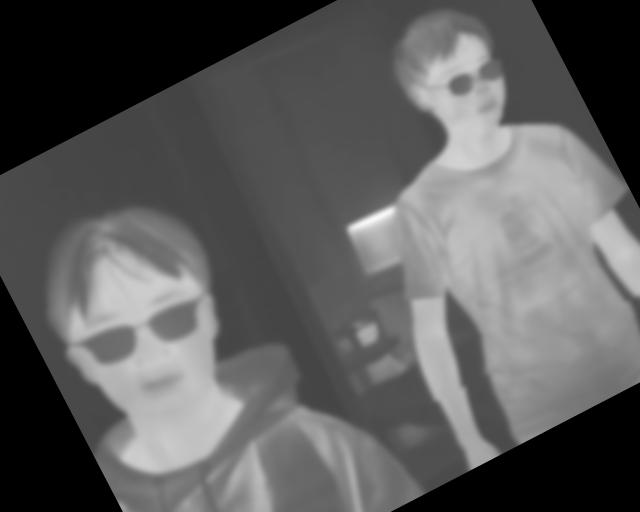face: (11, 175, 266, 448), (376, 1, 527, 155)
